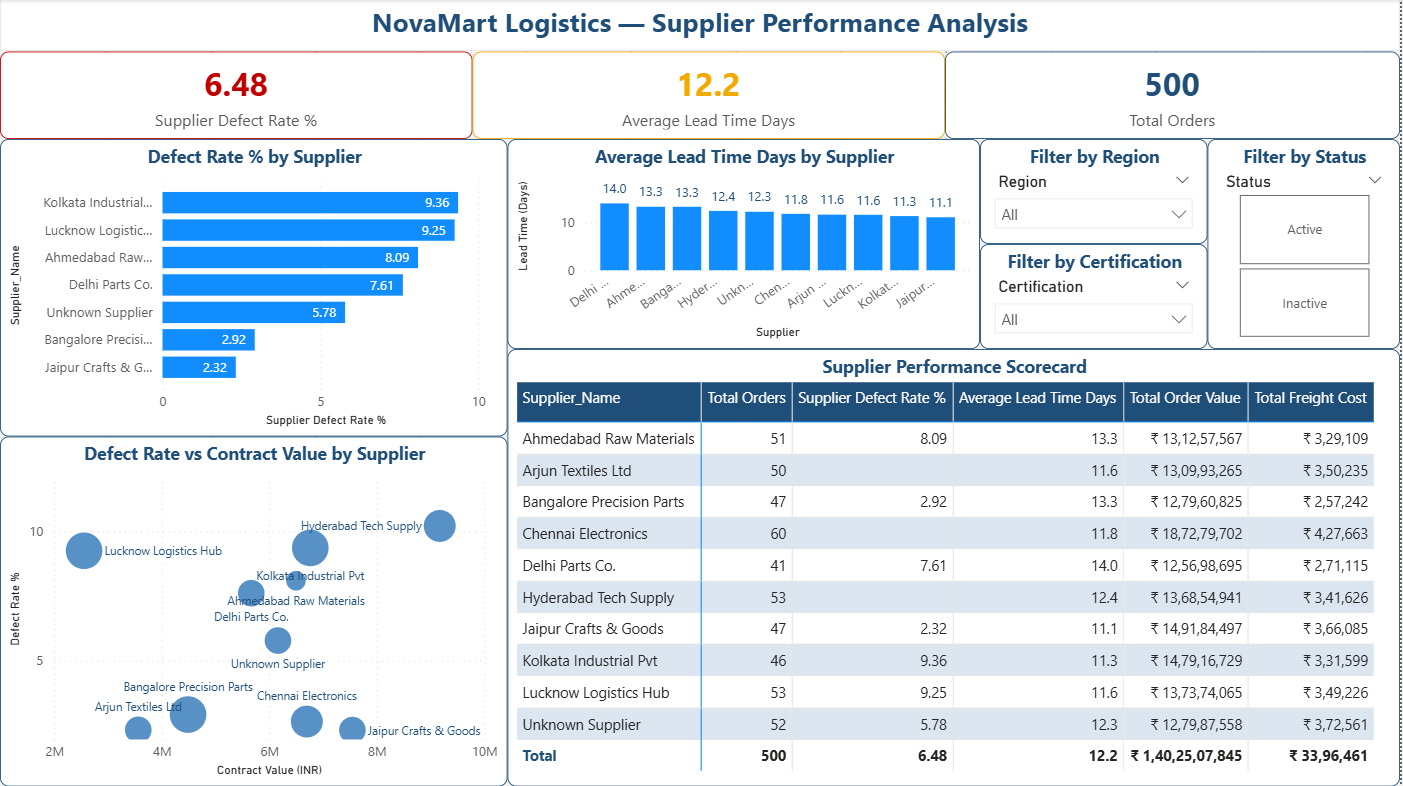

What the dashboard file says about the page in this screenshot:
{"tool":"powerbi","page":{"name":"Supplier Analysis","canvas":[1280,720],"ordinal":2},"visuals":[{"type":"textbox","box":[0,0,1280,48],"z":0},{"type":"card","fields":{"Values":["_Measures.Supplier Defect Rate %"]},"box":[0,48,432,80],"z":1000},{"type":"card","fields":{"Values":["_Measures.Average Lead Time Days"]},"box":[432,48,432,80],"z":2000},{"type":"card","fields":{"Values":["_Measures.Total Orders"]},"box":[864,48,416,80],"z":3000},{"type":"clusteredBarChart","title":"Defect Rate % by Supplier","fields":{"Category":["Suppliers.Supplier_Name"],"Y":["_Measures.Supplier Defect Rate %"]},"box":[0,128,464,272],"z":4000},{"type":"clusteredColumnChart","title":"Average Lead Time Days by Supplier","fields":{"Category":["Suppliers.Supplier_Name"],"Y":["_Measures.Average Lead Time Days"]},"box":[464,128,432,192],"z":5000},{"type":"scatterChart","title":"Defect Rate vs Contract Value by Supplier","fields":{"Category":["Suppliers.Supplier_Name"],"X":["Sum(Suppliers.Contract_Value_INR)"],"Y":["Sum(Suppliers.Defect_Rate_Pct)"],"Size":["Sum(Suppliers.Supplier_Rating)"]},"box":[0,400,464,320],"z":6000},{"type":"pivotTable","title":"Supplier Performance Scorecard","fields":{"Rows":["Suppliers.Supplier_Name"],"Values":["_Measures.Total Orders","_Measures.Supplier Defect Rate %","_Measures.Average Lead Time Days","_Measures.Total Order Value","_Measures.Total Freight Cost"]},"box":[464,320,816,400],"z":7000},{"type":"slicer","title":"Filter by Region","fields":{"Values":["Suppliers.Region"]},"box":[896,128,208,96],"z":8000},{"type":"slicer","title":"Filter by Status","fields":{"Values":["Suppliers.Status"]},"box":[1104,128,176,192],"z":9000},{"type":"slicer","title":"Filter by Certification","fields":{"Values":["Suppliers.Certification"]},"box":[896,224,208,96],"z":10000}]}

Visuals, with their boxes in screenshot pixels (x1, y1, x2, y2), scaled from the page's 1280x720 canvas onto the 1403x786 screenshot:
textbox: 0, 0, 1402, 52
card - _Measures.Supplier Defect Rate %: 0, 52, 474, 140
card - _Measures.Average Lead Time Days: 474, 52, 947, 140
card - _Measures.Total Orders: 947, 52, 1402, 140
"Defect Rate % by Supplier" clusteredBarChart: 0, 140, 509, 437
"Average Lead Time Days by Supplier" clusteredColumnChart: 509, 140, 982, 349
"Defect Rate vs Contract Value by Supplier" scatterChart: 0, 437, 509, 785
"Supplier Performance Scorecard" pivotTable: 509, 349, 1402, 785
"Filter by Region" slicer: 982, 140, 1210, 245
"Filter by Status" slicer: 1210, 140, 1402, 349
"Filter by Certification" slicer: 982, 245, 1210, 349
